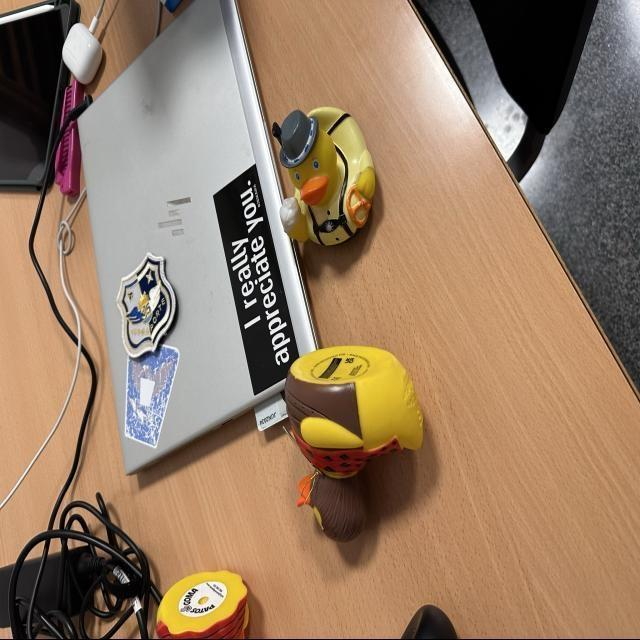rubber-duck: (284, 345, 421, 540), (271, 106, 374, 244), (155, 570, 246, 637)
